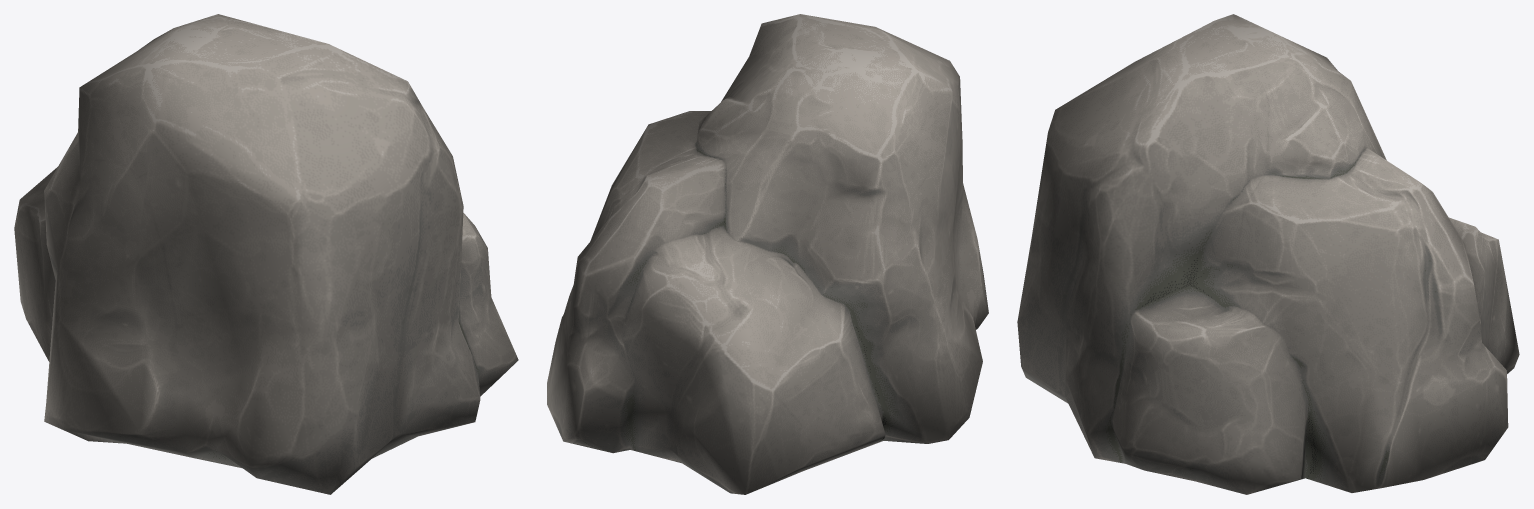
File: stone.glb
3 views of the same model, side by side, from view 1: azimuth 30°, elevation 25°; view 2: azimuth 150°, elevation 25°; view 3: azimuth 270°, elevation 25° (orthographic). The views are drawn at different scales.
Visible parts, largest first — view 1: RockA_LowPoly; view 2: RockA_LowPoly; view 3: RockA_LowPoly.
Part boxes in pixels (left/top/right/bottom): RockA_LowPoly: left=14, top=14, right=518, bottom=494; RockA_LowPoly: left=547, top=14, right=988, bottom=494; RockA_LowPoly: left=1017, top=14, right=1519, bottom=494.
Bounding box in the file's own units: 3.77 × 3.33 × 4.38.
1 material, 1 textured.
